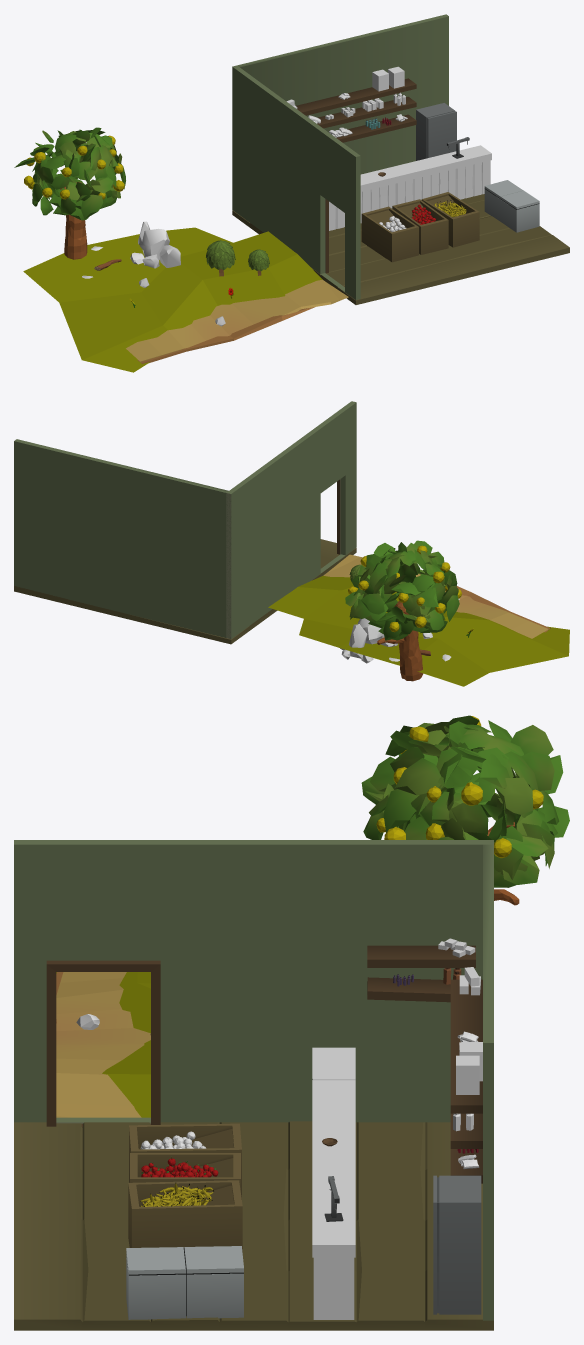
The model's file is FlorestaBrumas.fbx_Mercearia.fbx.
3 renders of one model, top to bottom at view 1: azimuth 30°, elevation 25°; view 2: azimuth 150°, elevation 25°; view 3: azimuth 270°, elevation 25°, orthographic. The views are drawn at different scales.
Visible parts, largest first — view 1: Mercearia, Water.002, Arvore.071, Cube.007, Cube.017, Cube.008, Cube.012, Cube.013, Cube.009, Arvore.070, Cube.010, Cube.011 (+3 smaller); view 2: Mercearia, Water.002, Arvore.071, Arvore.070, Pedras.005; view 3: Mercearia, Arvore.071, Water.002, Cube.008, Cube.013, Cube.017, Cube.009, Cube.010, Cube.012, Cube.007, Arvore.070, Cube.011 (+1 smaller).
Part boxes in pixels (x1=…): Mercearia: x1=232, y1=14, x2=569, y2=304; Water.002: x1=23, y1=227, x2=348, y2=372; Arvore.071: x1=14, y1=127, x2=125, y2=220; Cube.007: x1=329, y1=160, x2=490, y2=230; Cube.017: x1=296, y1=78, x2=416, y2=142; Cube.008: x1=360, y1=145, x2=491, y2=191; Cube.012: x1=361, y1=206, x2=418, y2=262; Cube.013: x1=484, y1=180, x2=539, y2=232; Cube.009: x1=416, y1=103, x2=456, y2=160; Arvore.070: x1=24, y1=135, x2=124, y2=259; Cube.010: x1=421, y1=192, x2=479, y2=247; Cube.011: x1=392, y1=199, x2=448, y2=254; Mercearia: x1=14, y1=401, x2=356, y2=644; Water.002: x1=268, y1=554, x2=569, y2=686; Arvore.071: x1=345, y1=540, x2=459, y2=640; Arvore.070: x1=348, y1=545, x2=461, y2=681; Pedras.005: x1=340, y1=618, x2=397, y2=663; Mercearia: x1=14, y1=840, x2=493, y2=1330; Arvore.071: x1=361, y1=715, x2=569, y2=887; Water.002: x1=56, y1=972, x2=150, y2=1117; Cube.008: x1=312, y1=1047, x2=355, y2=1257; Cube.013: x1=126, y1=1246, x2=243, y2=1319; Cube.017: x1=367, y1=945, x2=482, y2=1183; Cube.009: x1=433, y1=1175, x2=481, y2=1314; Cube.010: x1=128, y1=1180, x2=242, y2=1252; Cube.012: x1=129, y1=1123, x2=241, y2=1199; Cube.007: x1=313, y1=1257, x2=354, y2=1319; Arvore.070: x1=376, y1=716, x2=543, y2=905; Cube.011: x1=130, y1=1153, x2=240, y2=1192.
Size of the model in its own units: 1120 by 401 by 609.
